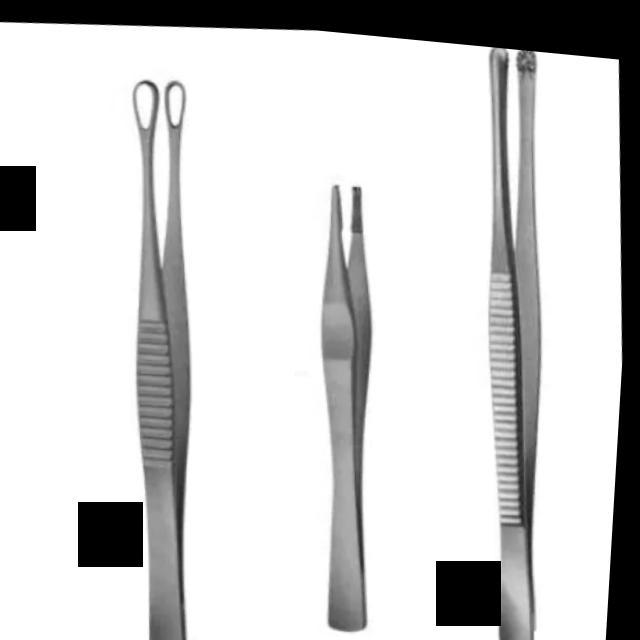Eye Intestinal Forceps: (100, 67, 232, 640)
